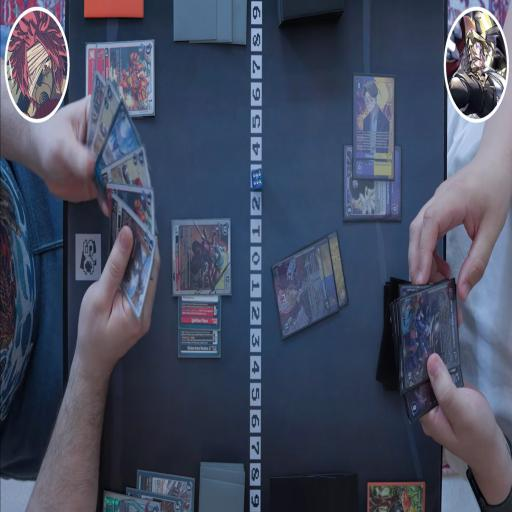card: (271, 234, 338, 341), (402, 275, 457, 388), (108, 193, 156, 320), (92, 95, 145, 195), (172, 218, 232, 296), (97, 39, 155, 119), (344, 146, 402, 222), (353, 75, 394, 179), (86, 78, 128, 179), (407, 366, 464, 429), (98, 145, 156, 202), (105, 181, 155, 247), (136, 470, 195, 511), (82, 67, 104, 166), (328, 230, 348, 309), (178, 294, 221, 328), (179, 326, 221, 357), (104, 490, 161, 512), (86, 42, 95, 98)
